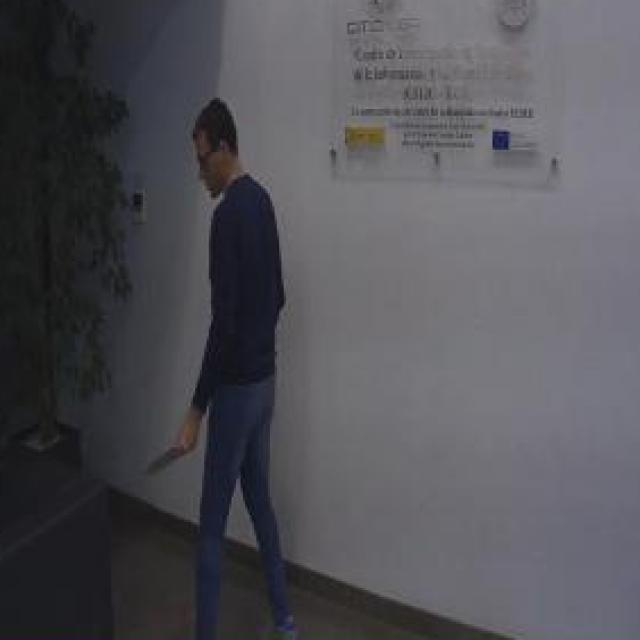knife: (143, 427, 195, 480)
